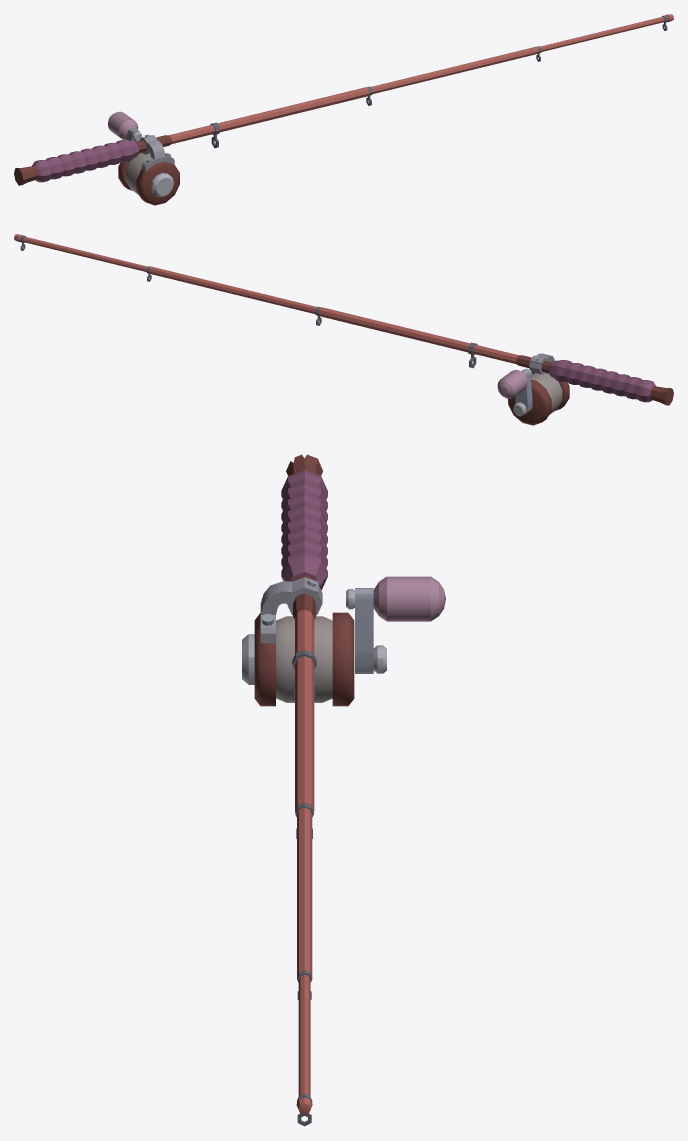
File: Tool_FishingRod_V2.fbx
3 views of the same model, one above another, from view 1: azimuth 30°, elevation 25°; view 2: azimuth 150°, elevation 25°; view 3: azimuth 270°, elevation 25° (orthographic). The views are drawn at different scales.
Parts seen in each view (by area): view 1: Tool_FishingRod_V2; view 2: Tool_FishingRod_V2; view 3: Tool_FishingRod_V2.
Boxes of the visible parts, <box> form: Tool_FishingRod_V2: <box>14,14,673,205</box>; Tool_FishingRod_V2: <box>14,234,673,425</box>; Tool_FishingRod_V2: <box>242,454,445,1126</box>.
Size of the model in its own units: 137 by 12.41 by 18.53.
